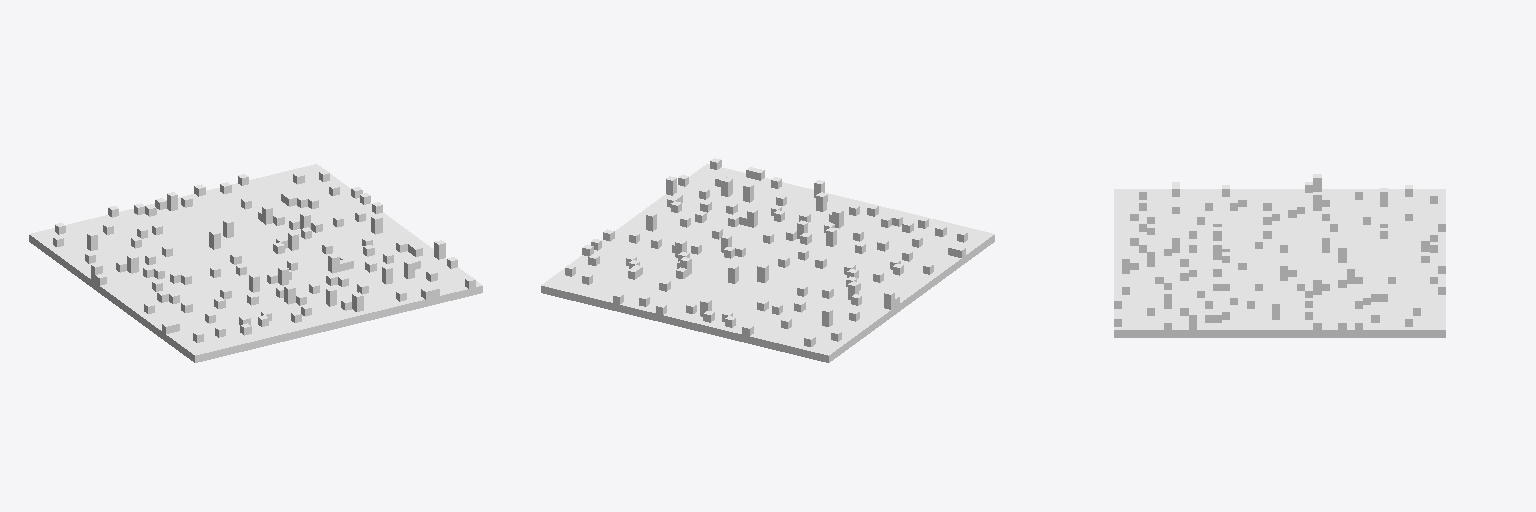
File: dirt_floor_25-50.obj
3 views of the same model, side by side, from view 1: azimuth 30°, elevation 25°; view 2: azimuth 150°, elevation 25°; view 3: azimuth 270°, elevation 25° (orthographic).
Parts seen in each view (by area): view 1: object 1; view 2: object 1; view 3: object 1.
Part boxes in pixels (x1,y1,x2,y2): object 1: (29,164,482,362); object 1: (541,158,994,362); object 1: (1114,174,1445,337).
Bounding box in the file's own units: 4 × 0.3 × 4.